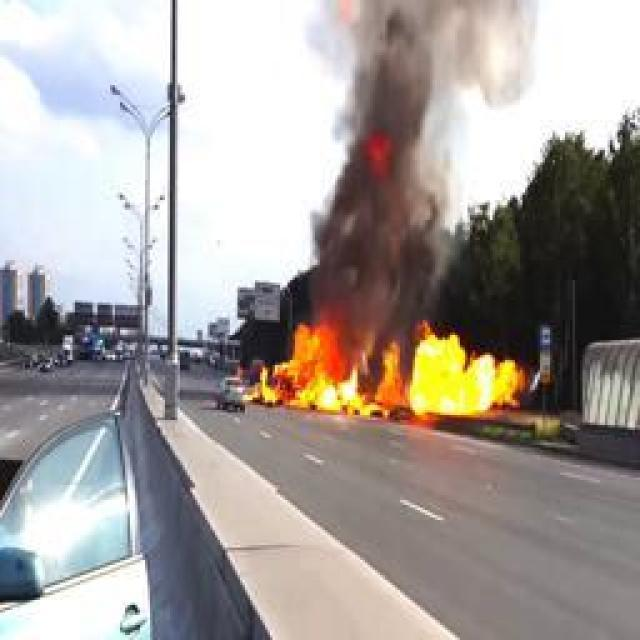Fire: (256, 325, 522, 420)
